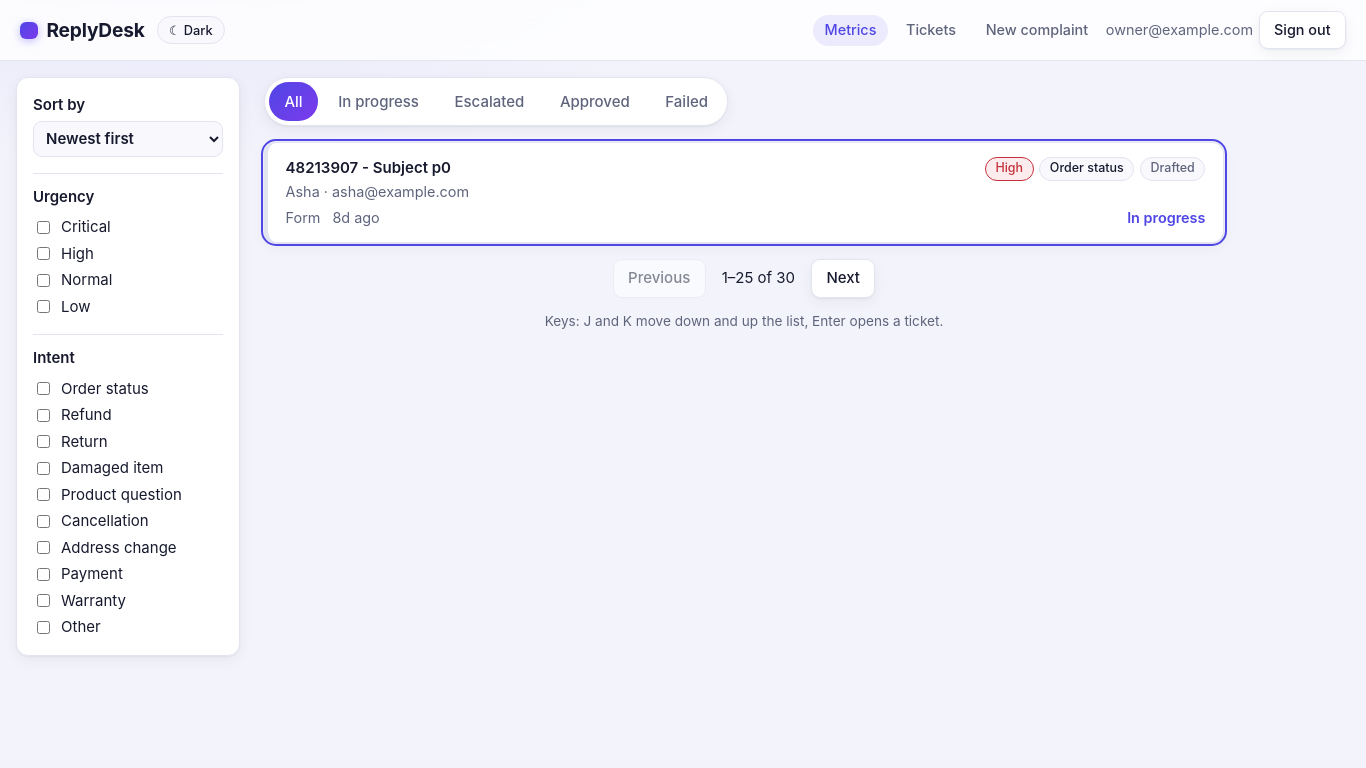
Scenario: the queue › pages through a long list
The image size is (1366, 768).
Expected: the link "48213907 - Subject p0" is shown, [286,158,451,177]
Expected: the text "1–25 of 30" is shown, [722,267,795,289]
Click the button "Next" at (843, 278), box [811,259,875,298]
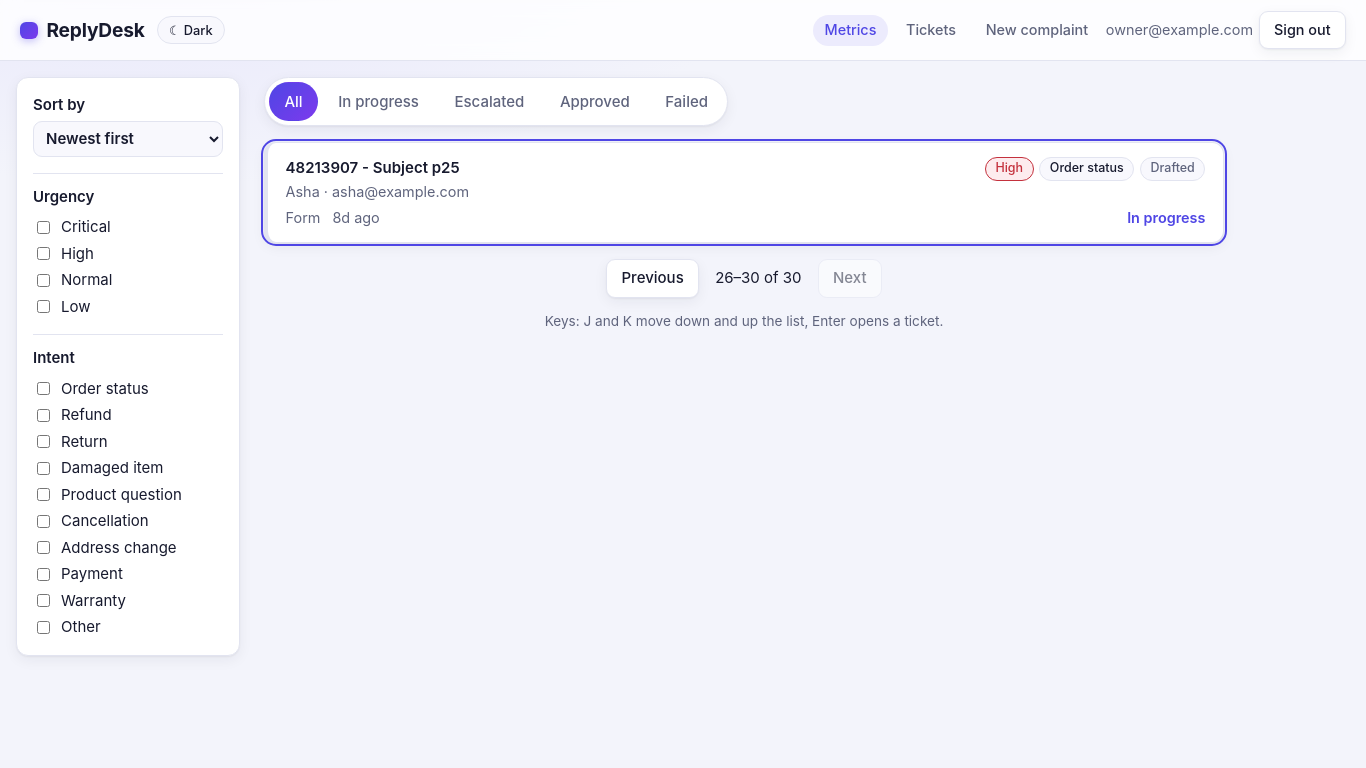
Result: the link "48213907 - Subject p25" is shown at [286,158,460,177]
Result: the button "Next" is disabled at [818,259,882,298]
